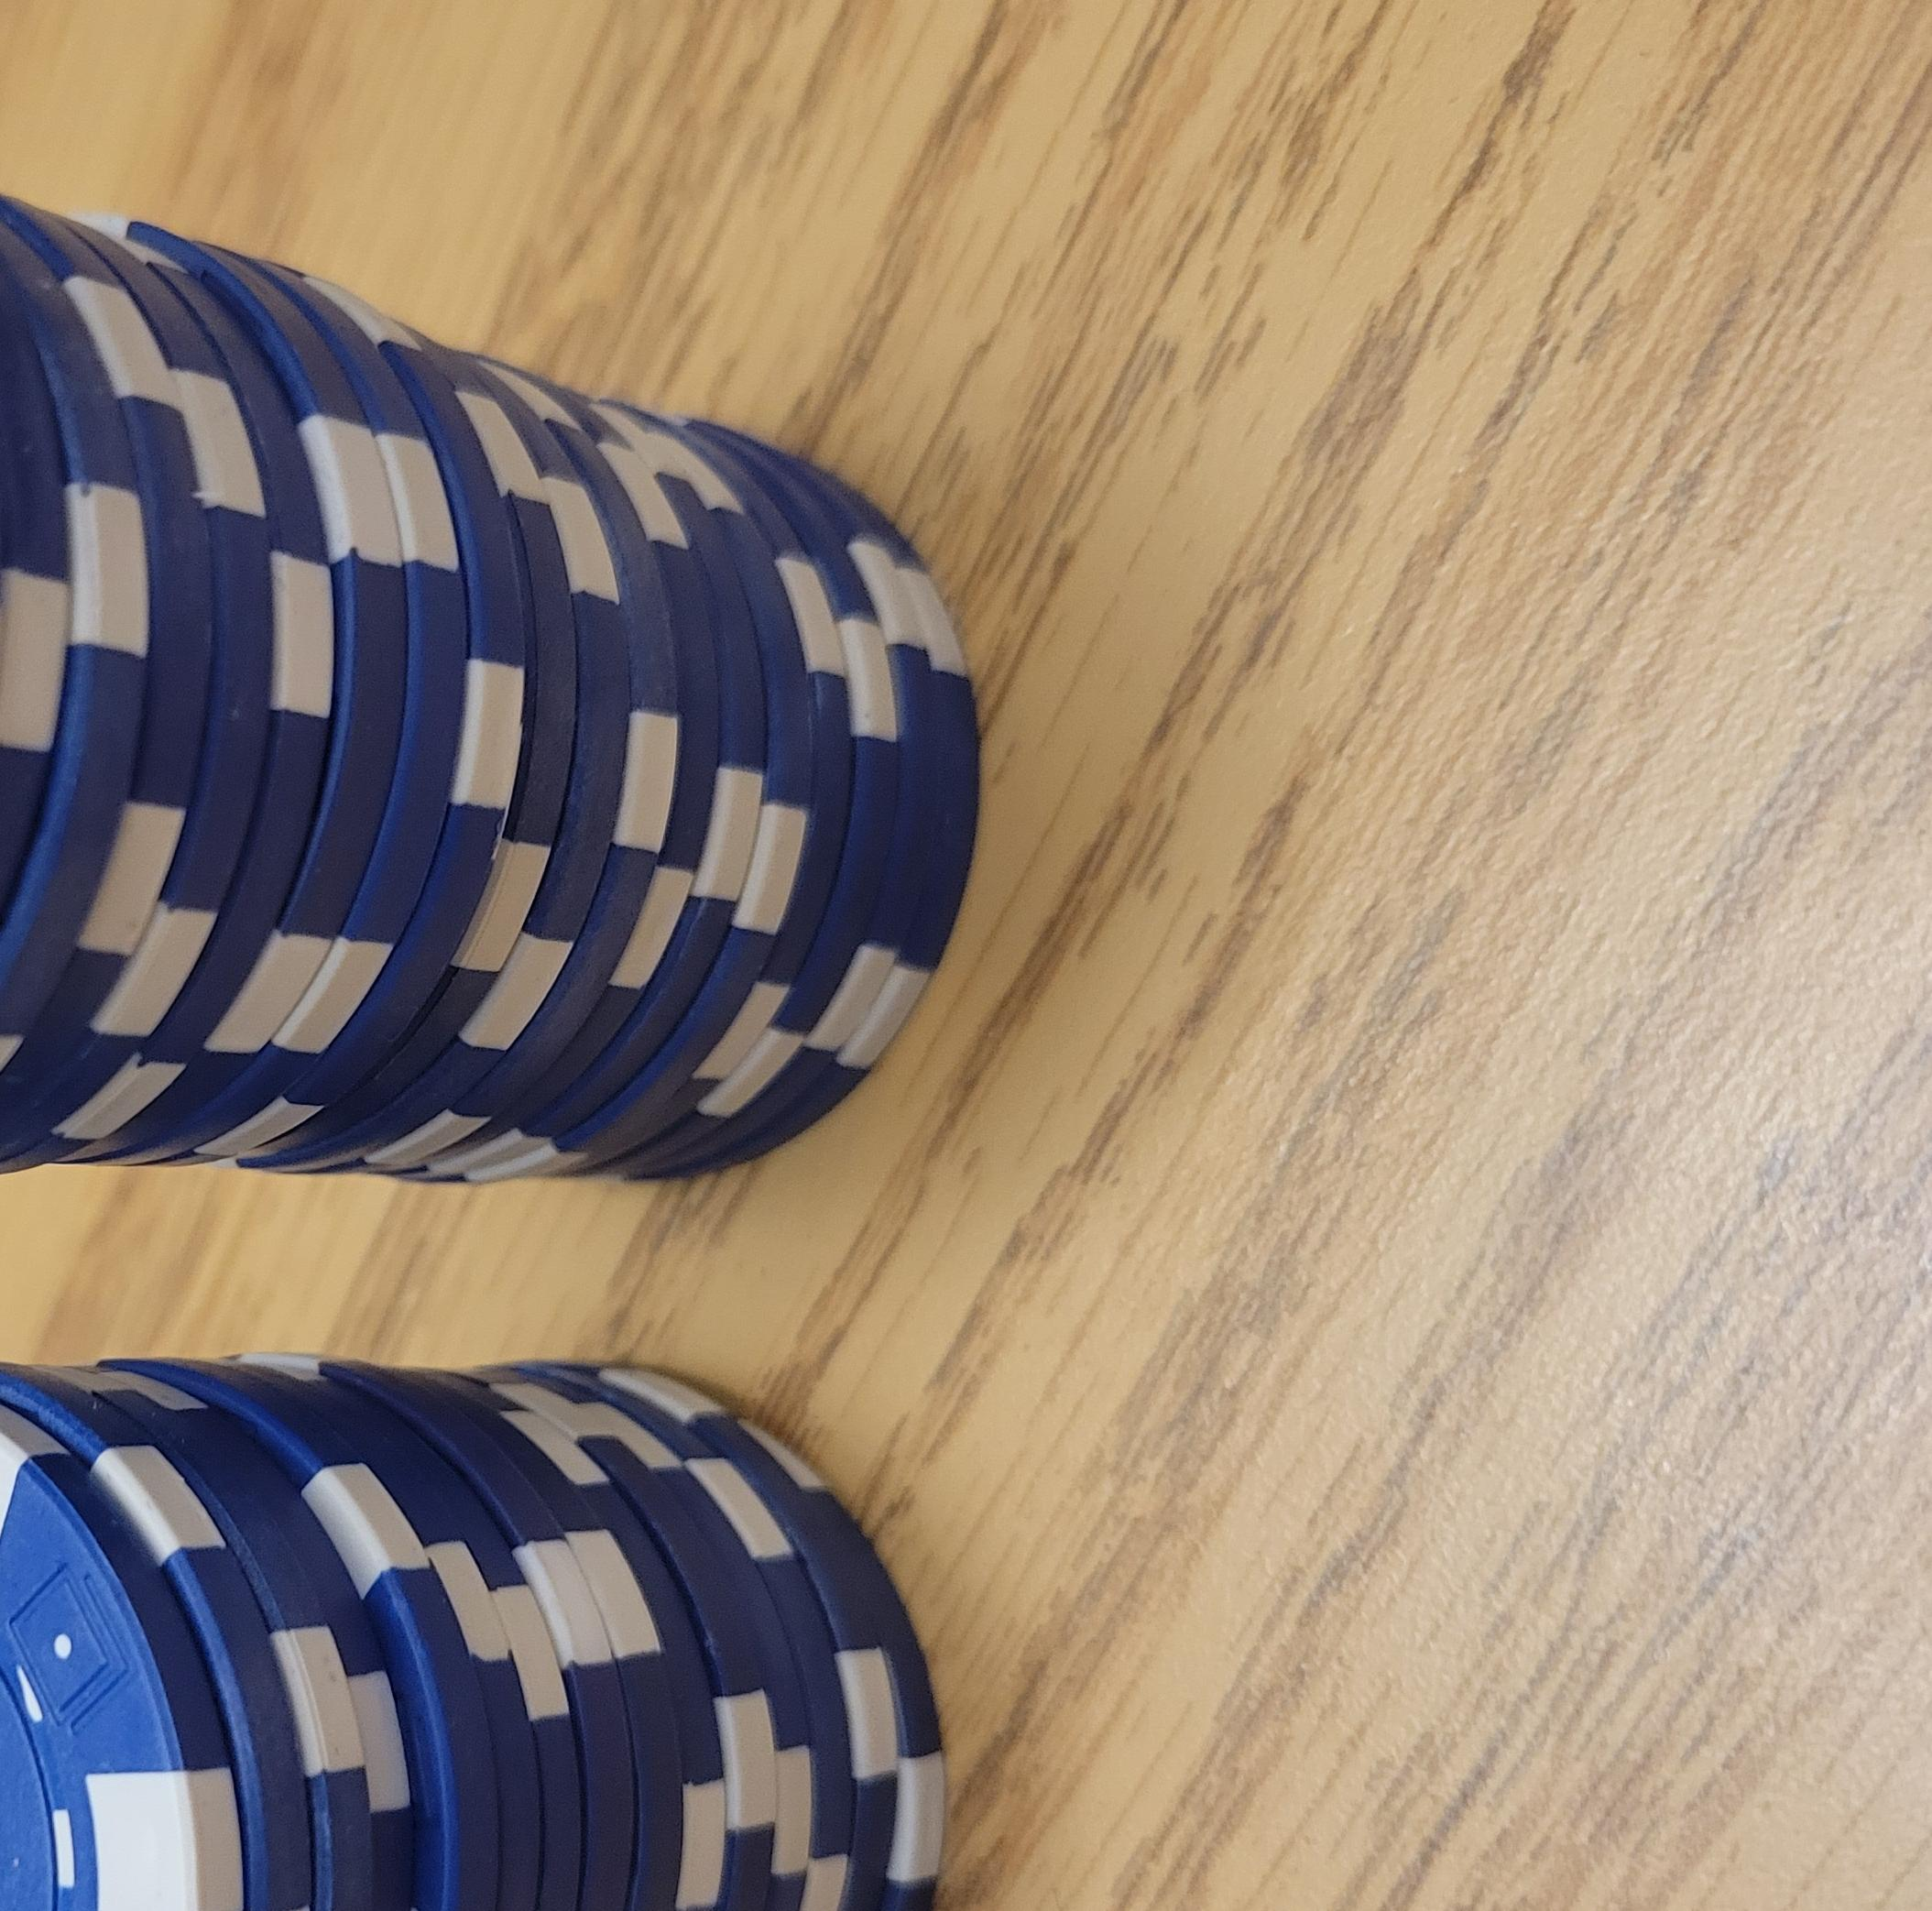Chip: (2, 72, 1045, 1911)
